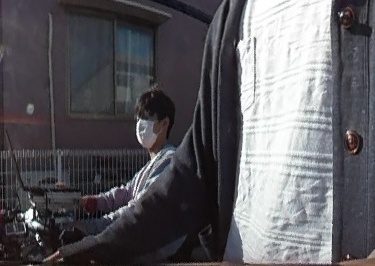person: (19, 87, 186, 262)
